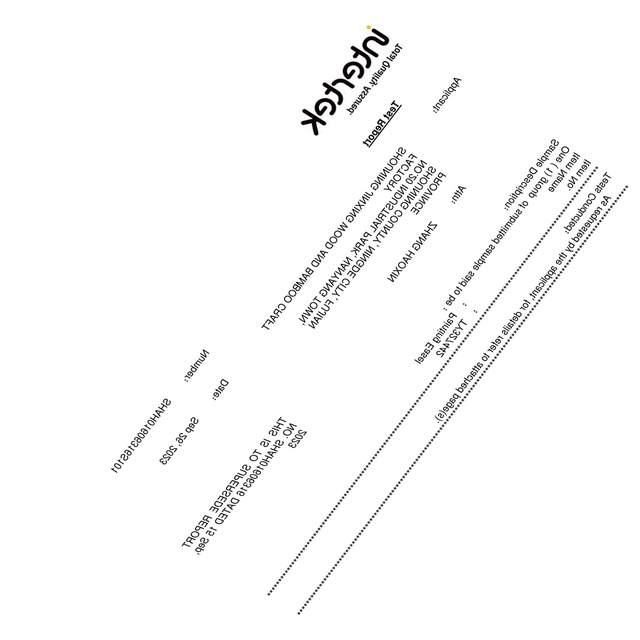intertek: (298, 22, 393, 139)
